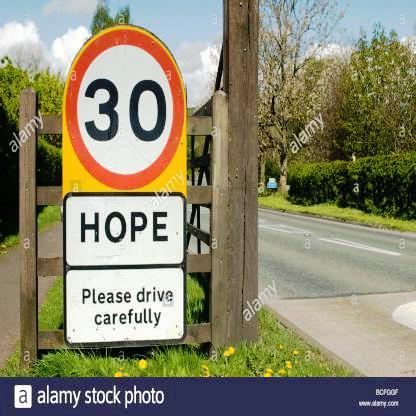Speed Limit -30-: (61, 22, 188, 189)
